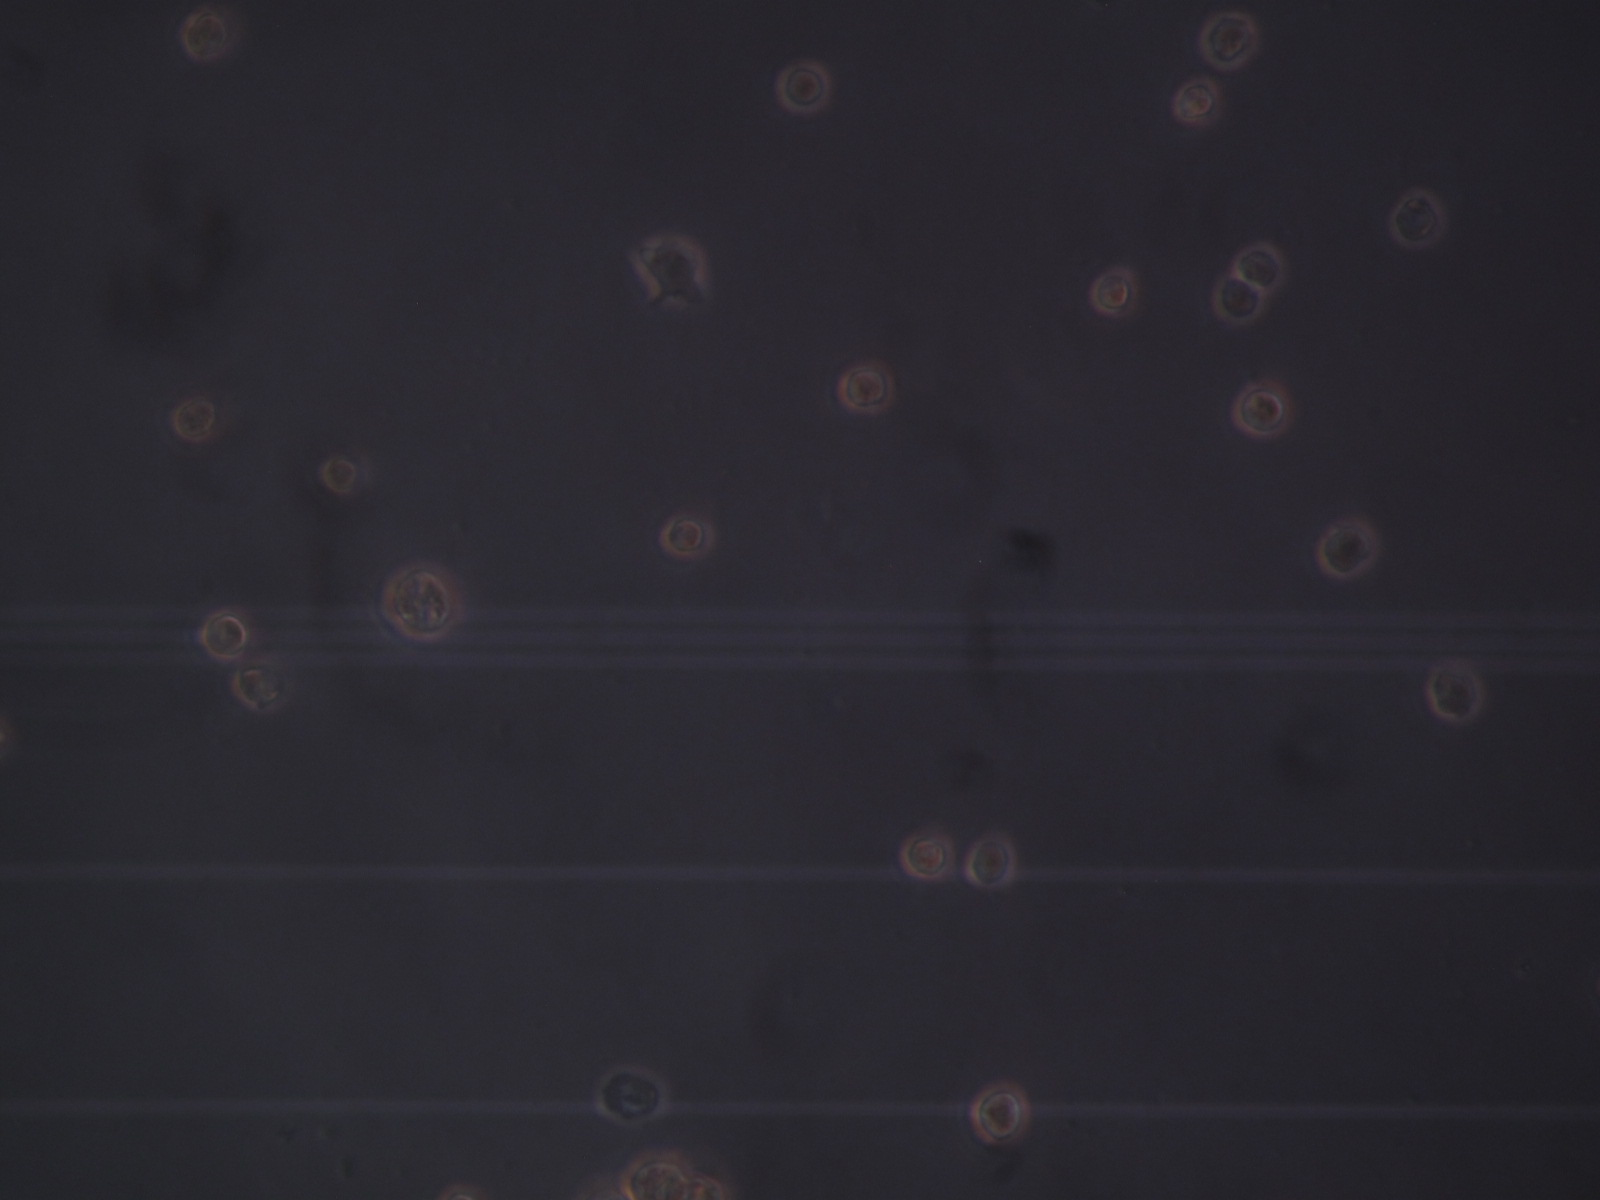hemo: (380, 561, 464, 642), (630, 237, 706, 310), (595, 1061, 670, 1126), (1318, 517, 1381, 576), (1198, 10, 1255, 74), (970, 1087, 1031, 1145), (1391, 187, 1446, 247), (1232, 382, 1288, 439), (620, 1153, 687, 1200), (839, 363, 896, 416), (1170, 74, 1223, 129), (1429, 664, 1482, 718), (775, 62, 831, 112), (180, 9, 233, 62), (195, 610, 251, 661), (233, 664, 290, 713), (1089, 265, 1140, 318), (1214, 275, 1270, 323), (659, 514, 718, 558), (1237, 242, 1288, 294), (964, 839, 1017, 889), (165, 393, 217, 441), (900, 836, 952, 880), (317, 455, 359, 492)
